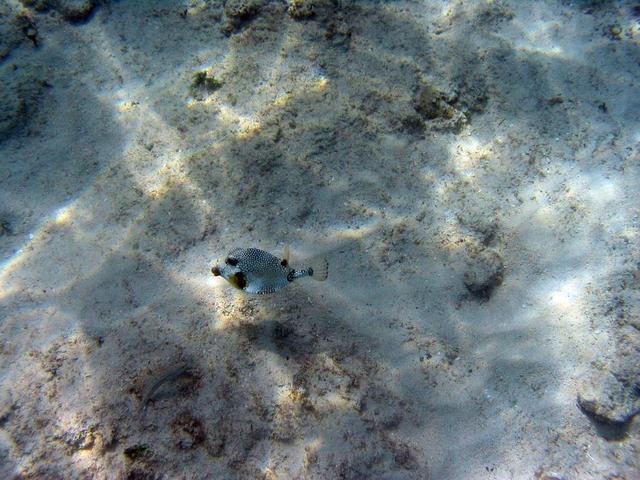fish: (198, 220, 338, 302)
